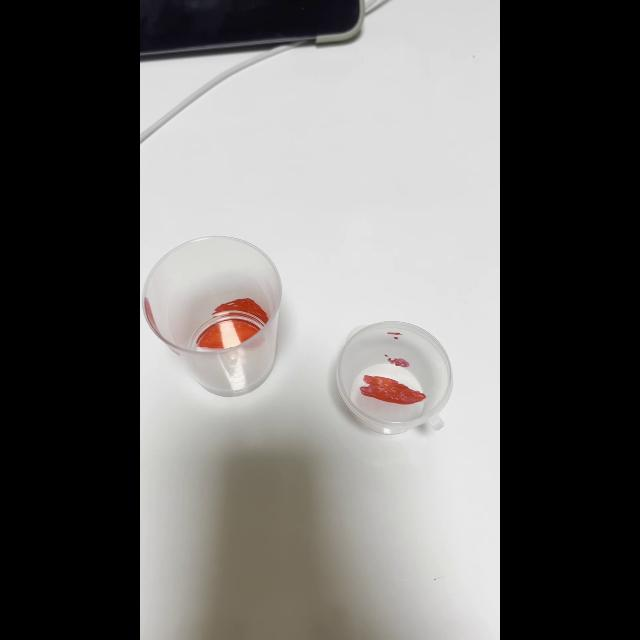dirty: (149, 237, 281, 397), (339, 320, 455, 430)
